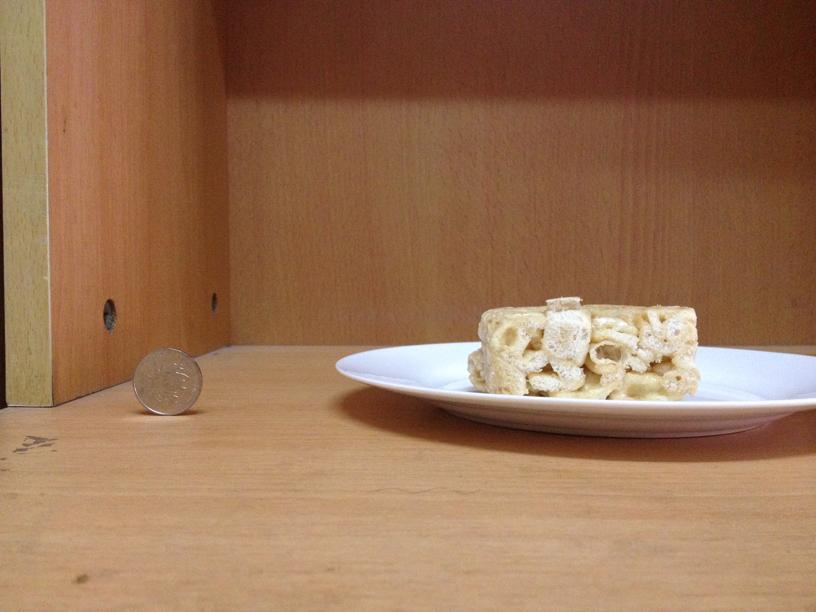coin: (132, 348, 200, 417)
sachima: (468, 295, 704, 403)
